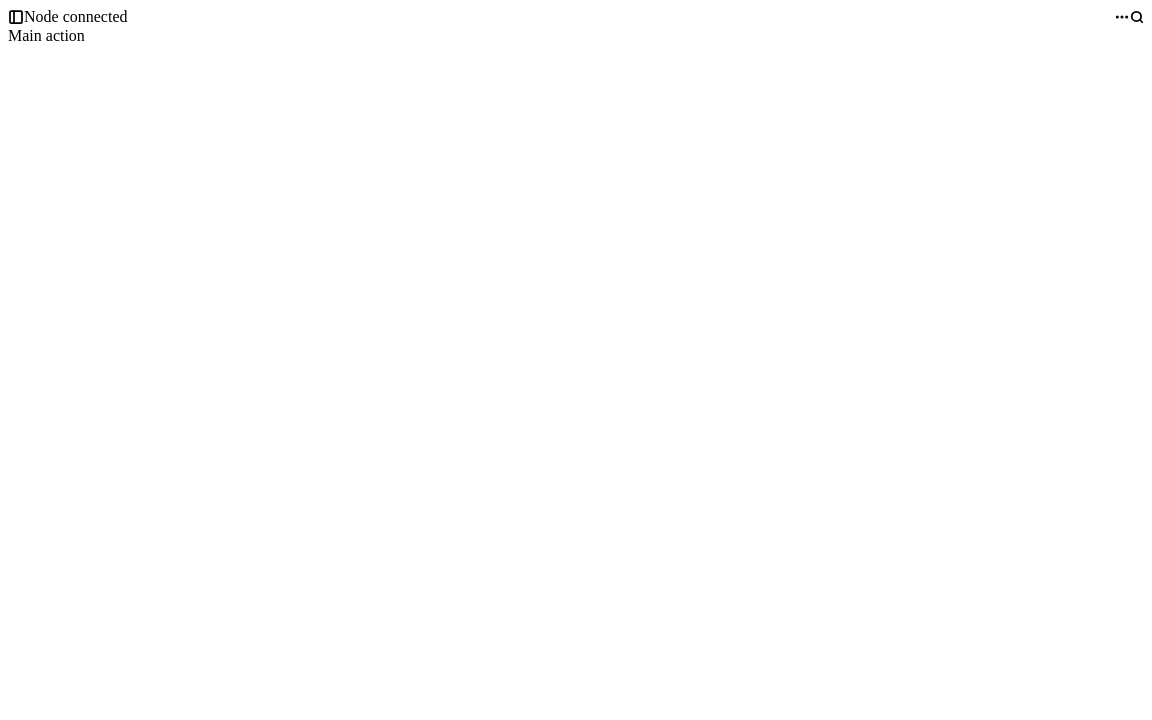
Test: AppShellChrome on a phone-width shell (visual pass, item 4) › keeps navigation in a closed drawer and the status items behind one overflow control
expect the number of buttons named "Open navigation" is 1: met, box [8,9,24,25]
expect the button "Memory" is not shown: met
Click the button named "Status and settings" at (1122, 17), box [1114,9,1130,25]
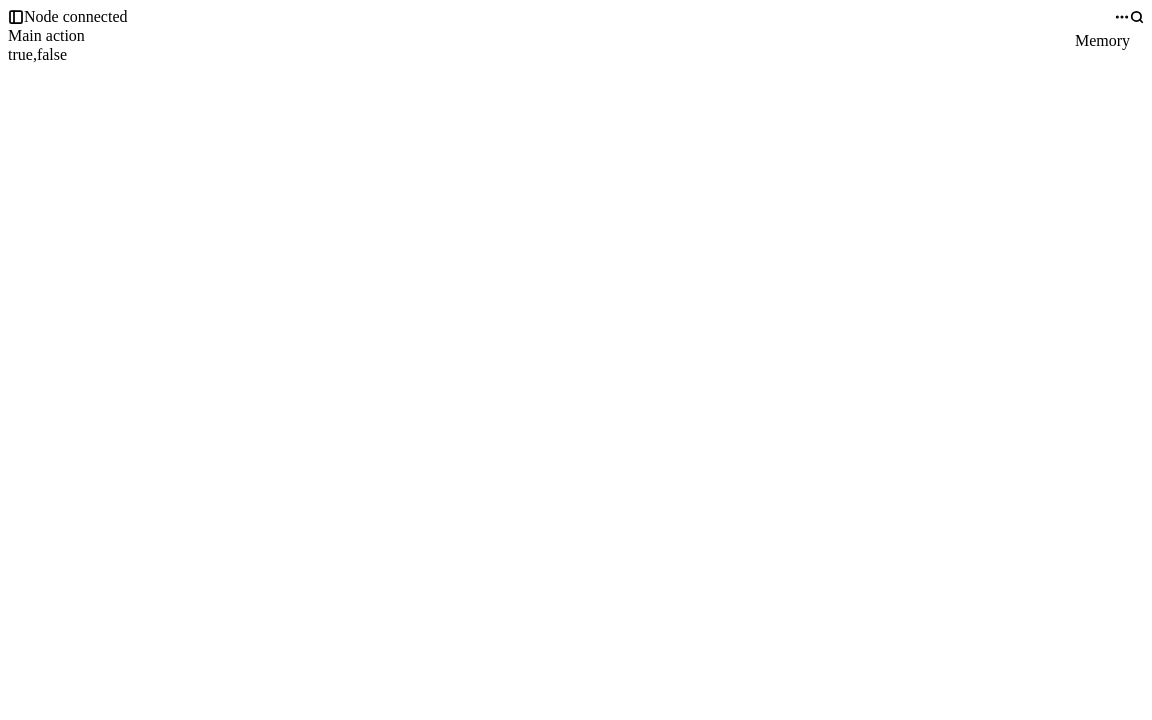
expect the button "Memory" is shown: met
Press Escape in the button "Memory", box [1075,31,1130,51]
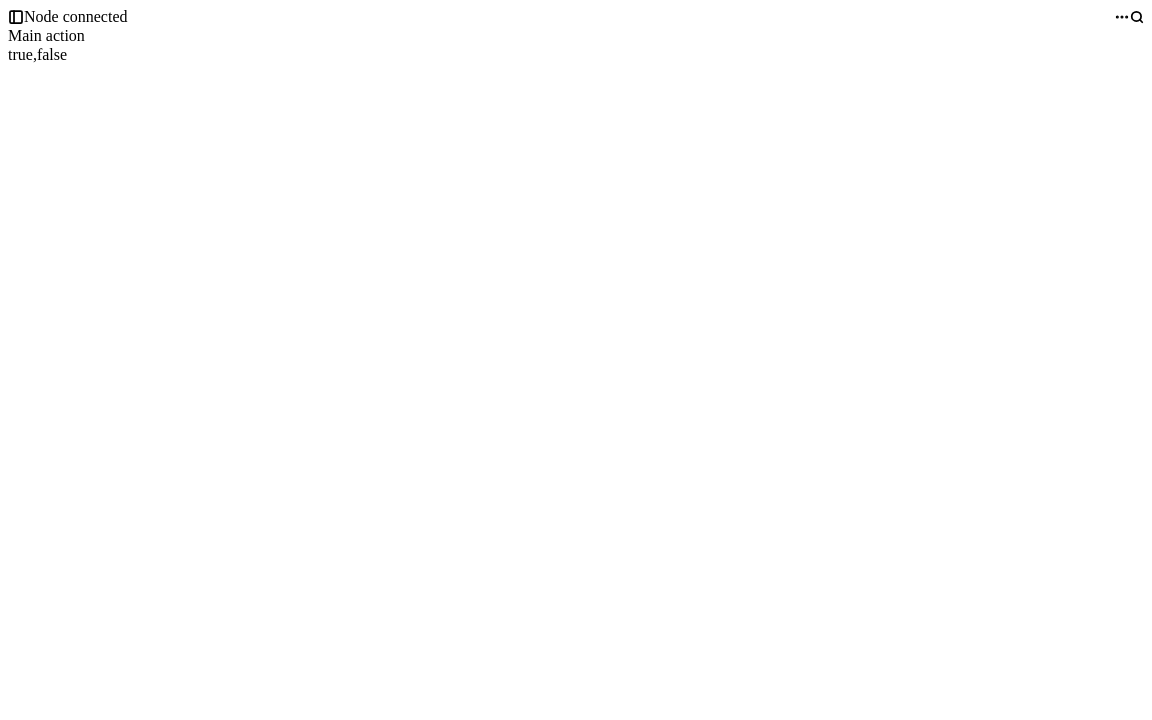
Click the button named "Open navigation" at (16, 17), box [8,9,24,25]
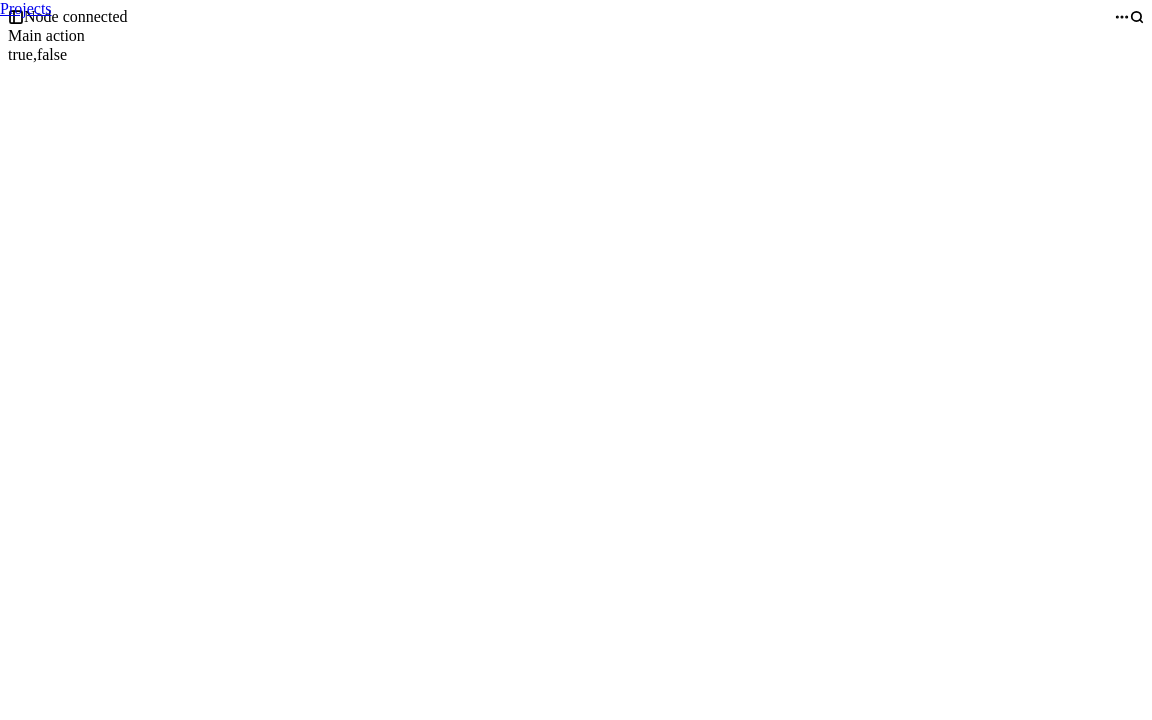
expect the number of links is 1: met, box [0,0,52,17]
